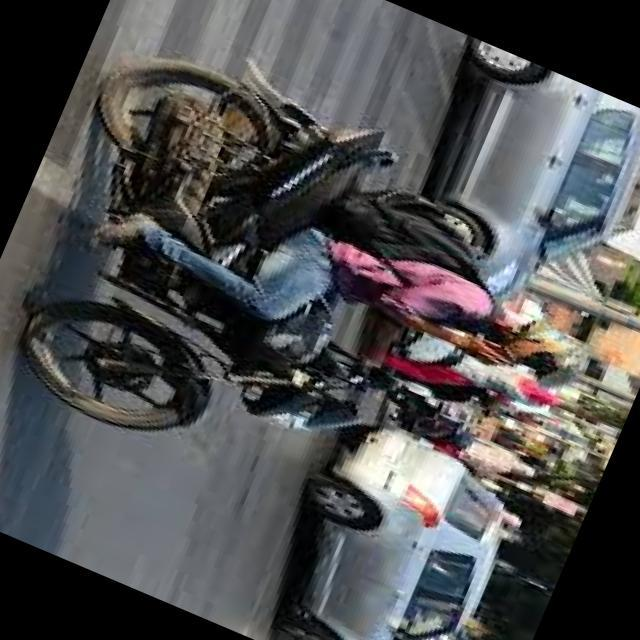USING_MOBILE: (371, 288, 518, 374)
